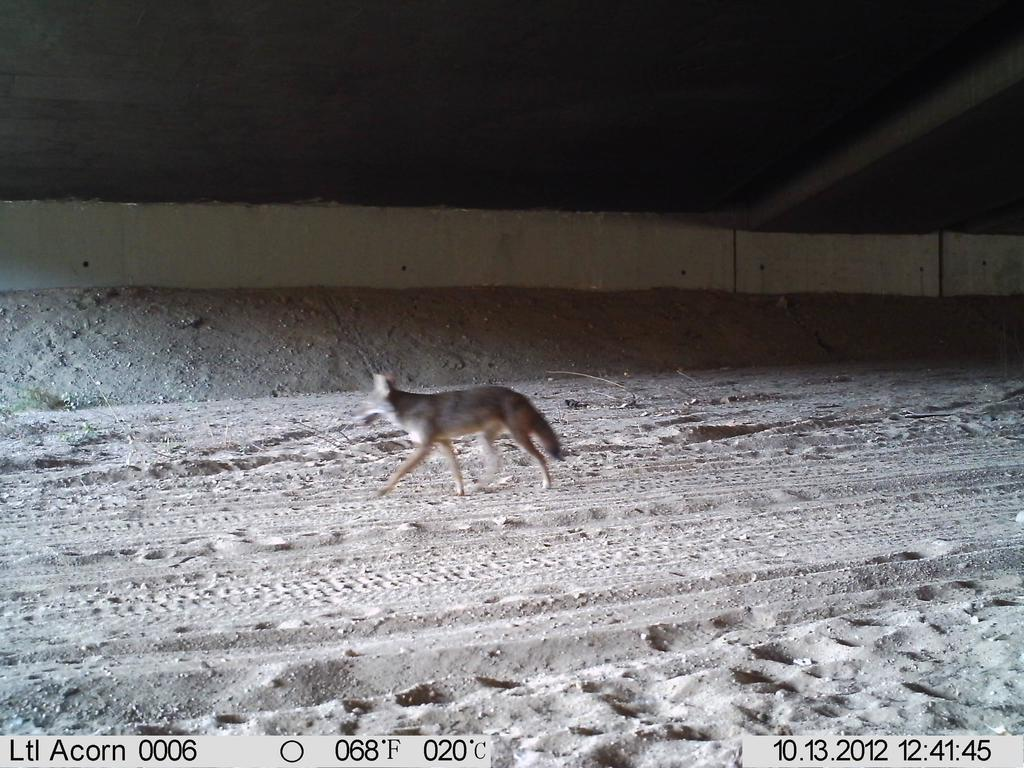coyote: (355, 365, 574, 503)
